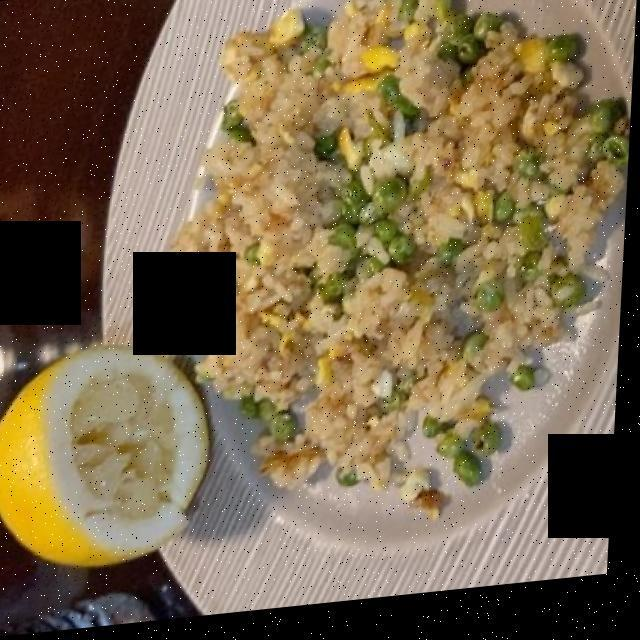fried-rice: (206, 0, 615, 515)
lemon: (0, 349, 214, 553)
